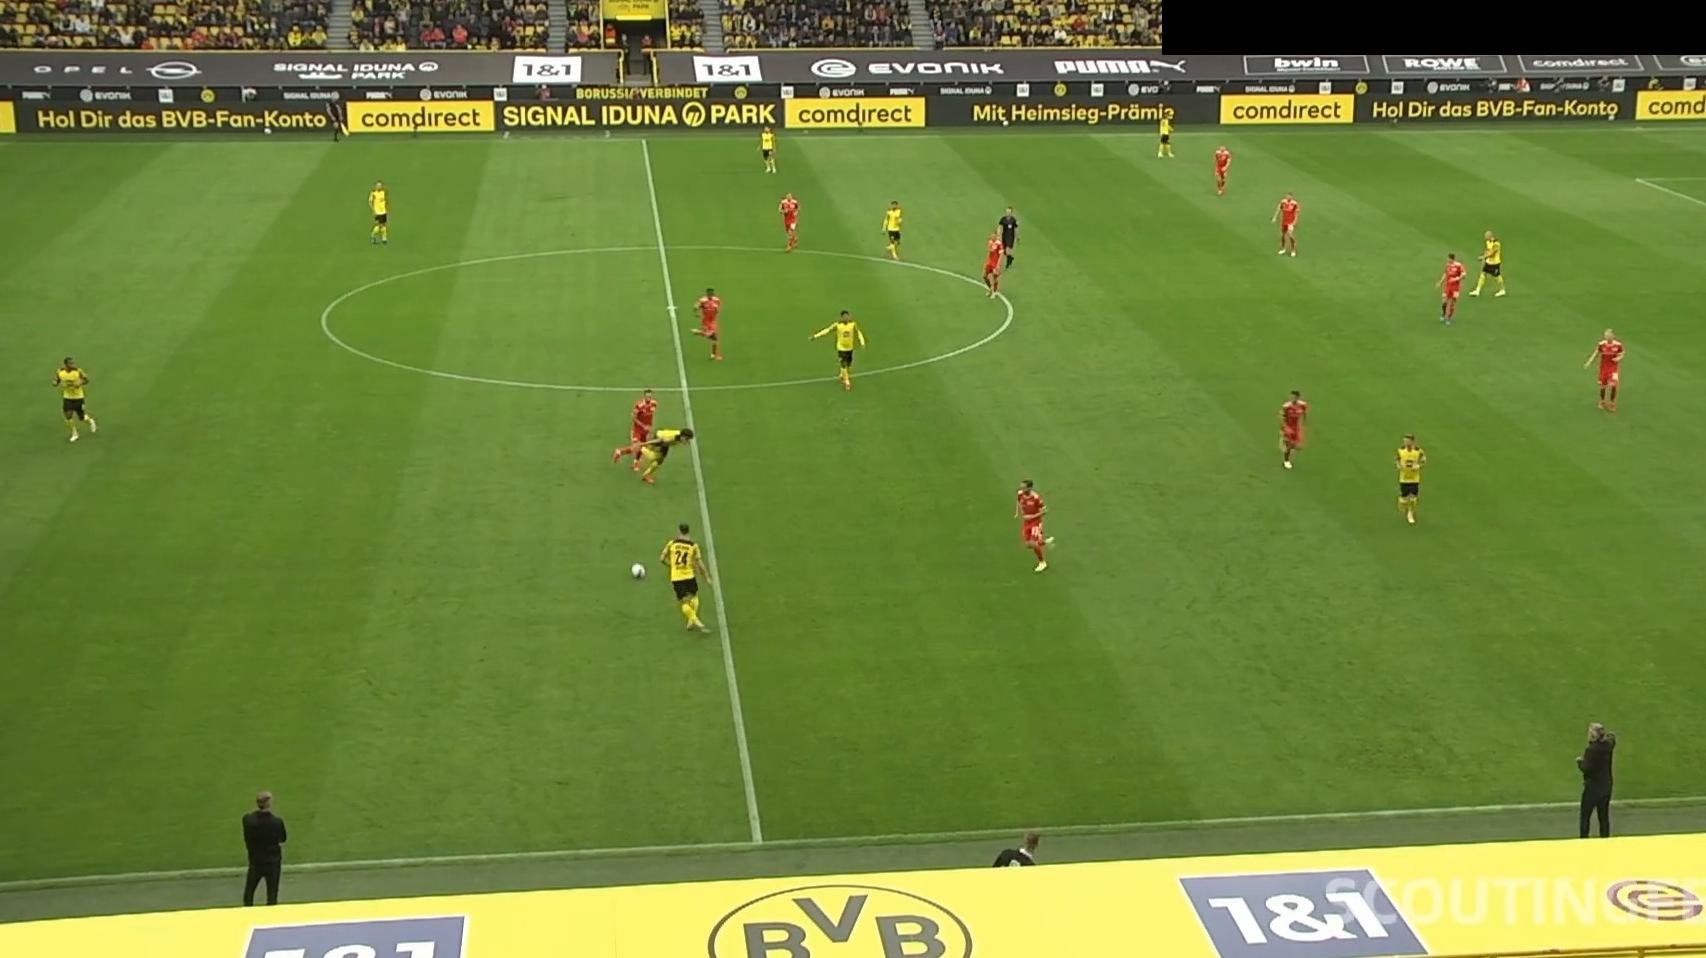ball: (628, 561, 648, 580)
